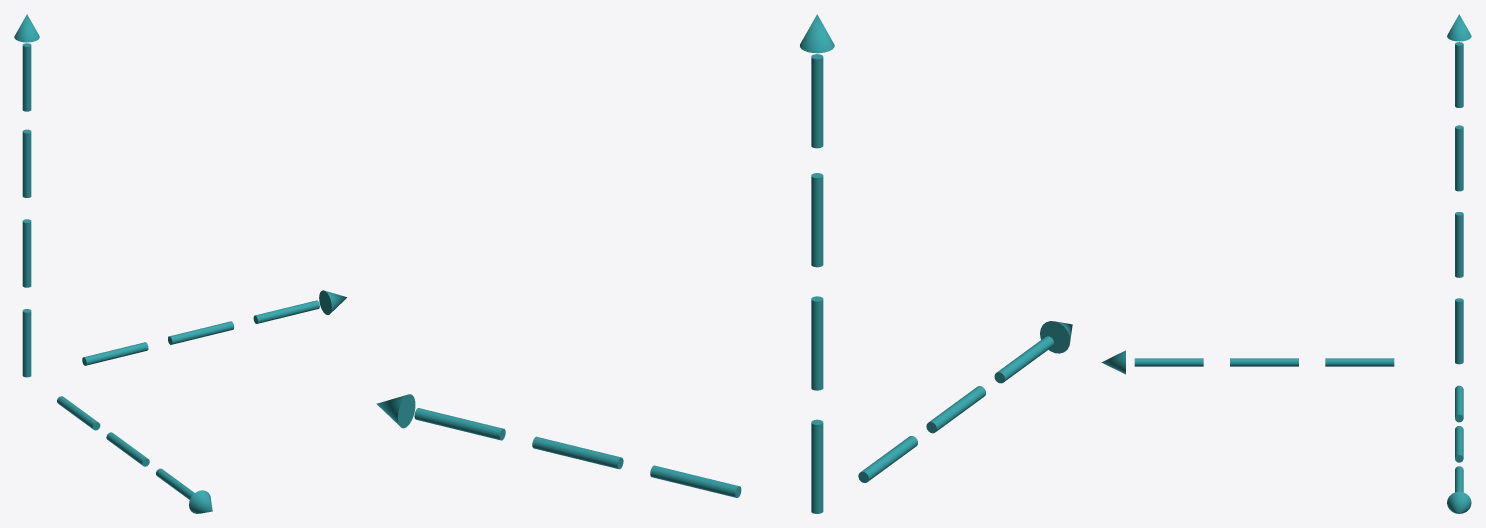
The model's file is arrows.fbx.
The picture shows the model from 3 angles, left to right: view 1: azimuth 30°, elevation 25°; view 2: azimuth 150°, elevation 25°; view 3: azimuth 270°, elevation 25°; orthographic projection. The views are drawn at different scales.
Parts seen in each view (by area): view 1: pCylinder8; view 2: pCylinder8; view 3: pCylinder8.
Boxes of the visible parts, bbox=[...] form: pCylinder8: bbox=[14, 14, 346, 513]; pCylinder8: bbox=[376, 14, 1072, 513]; pCylinder8: bbox=[1101, 14, 1471, 513].
Size of the model in its own units: 125 by 134 by 125.
